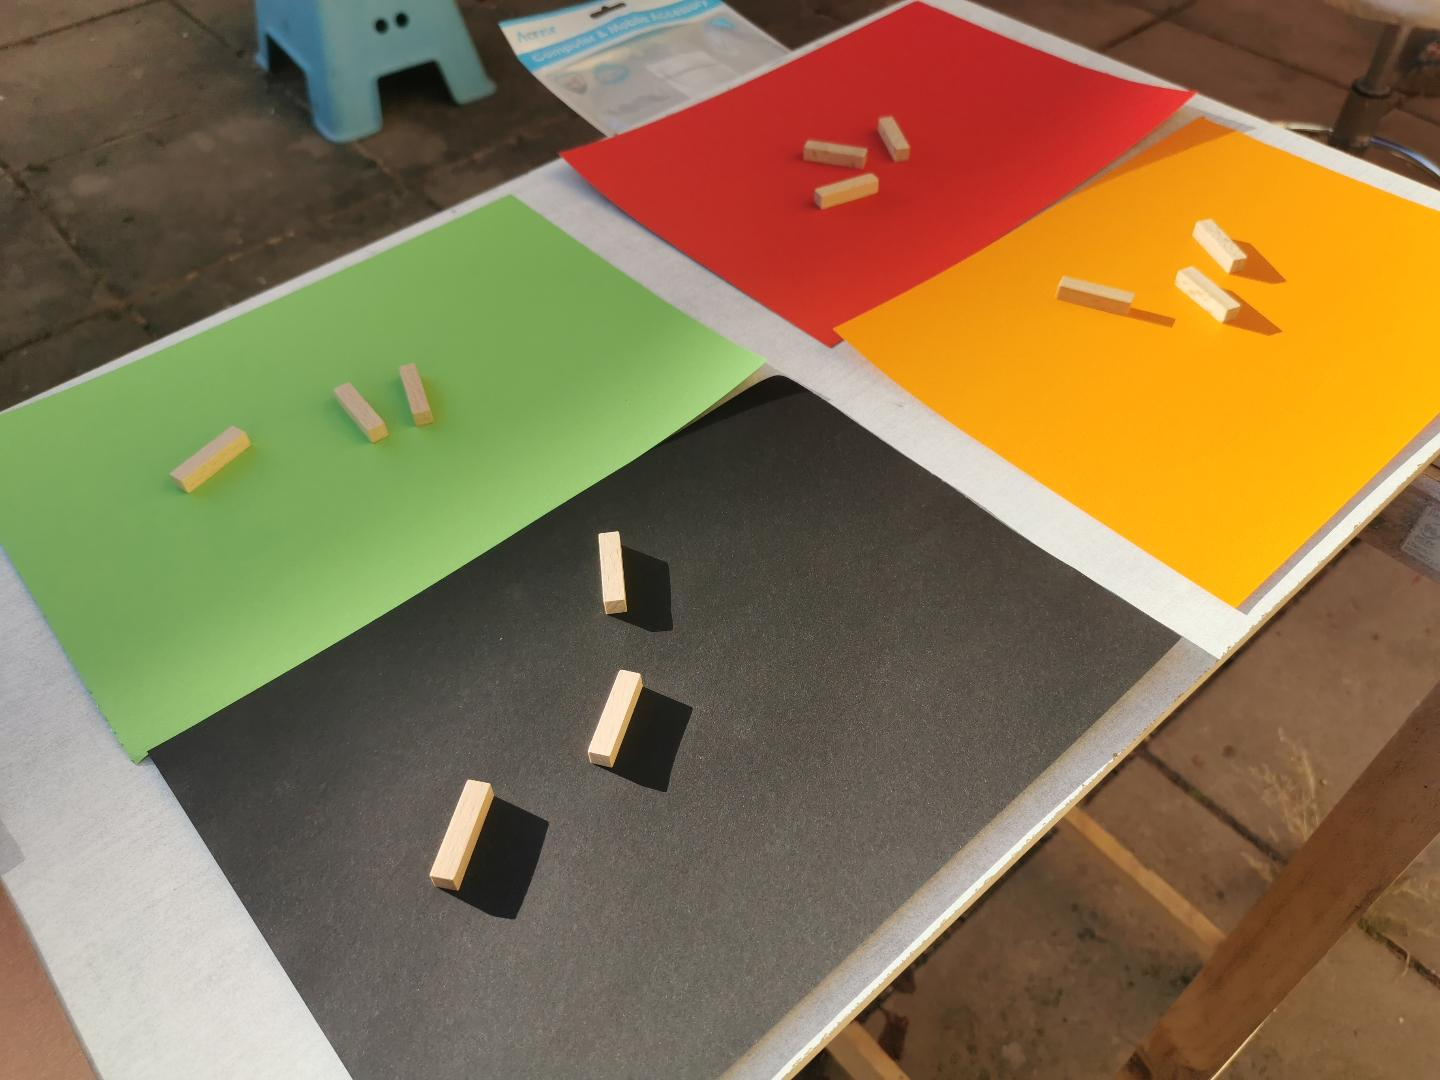jenga: (431, 779, 495, 888), (587, 669, 642, 768), (171, 428, 251, 492), (1176, 268, 1240, 323), (334, 382, 388, 441), (1058, 276, 1134, 315), (1193, 219, 1246, 272), (599, 532, 627, 616), (399, 363, 433, 424), (815, 175, 878, 208), (802, 141, 866, 169), (878, 116, 912, 163)
